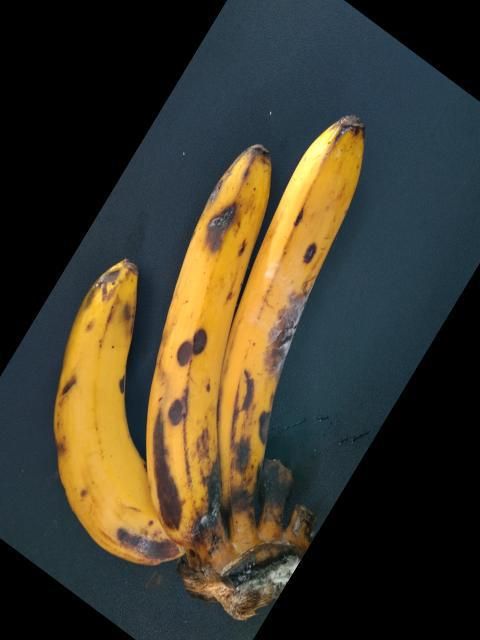overripe: (113, 119, 290, 558), (212, 107, 374, 495), (34, 250, 179, 585)
rotten: (259, 268, 339, 389)
